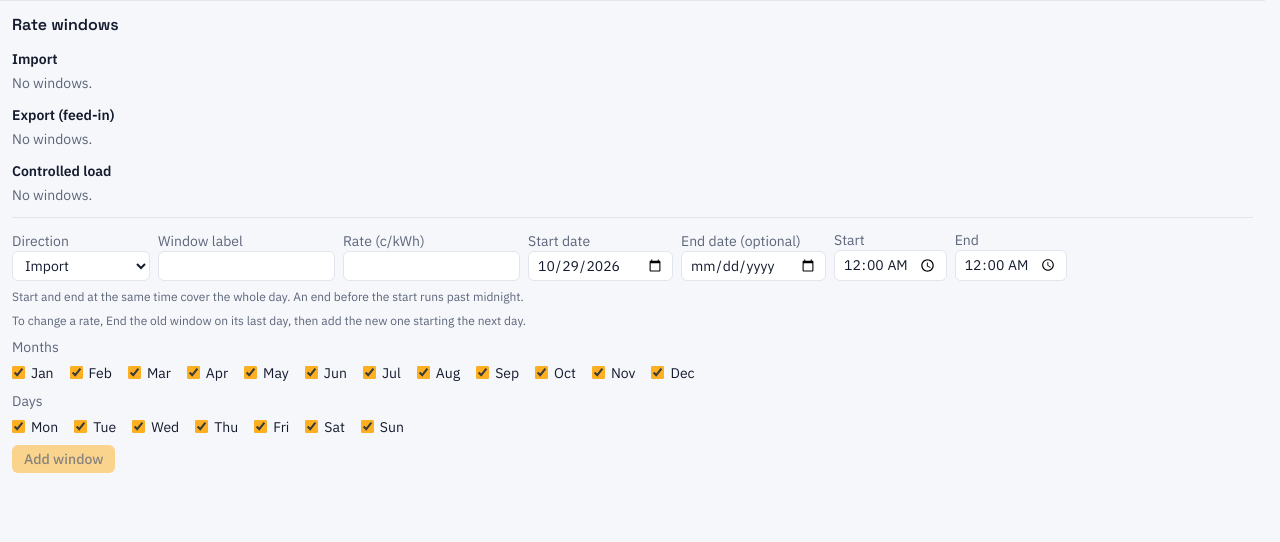
Test: RateWindowsPanel › shows the server's message when a window overlaps
Expected: the heading "Import" is shown, [12,50,57,68]
In the field labelled "Window label": (246, 266) [158,251,335,281], type "Peak"
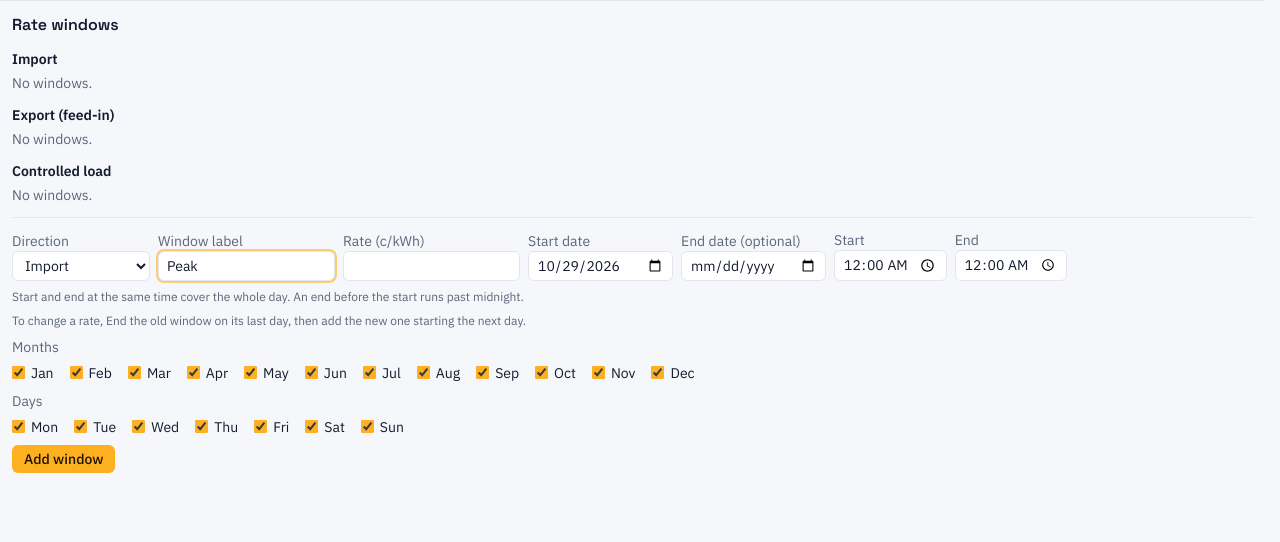
In the number field labelled "Rate (c/kWh)": (432, 266) [343,251,520,281], type "40"
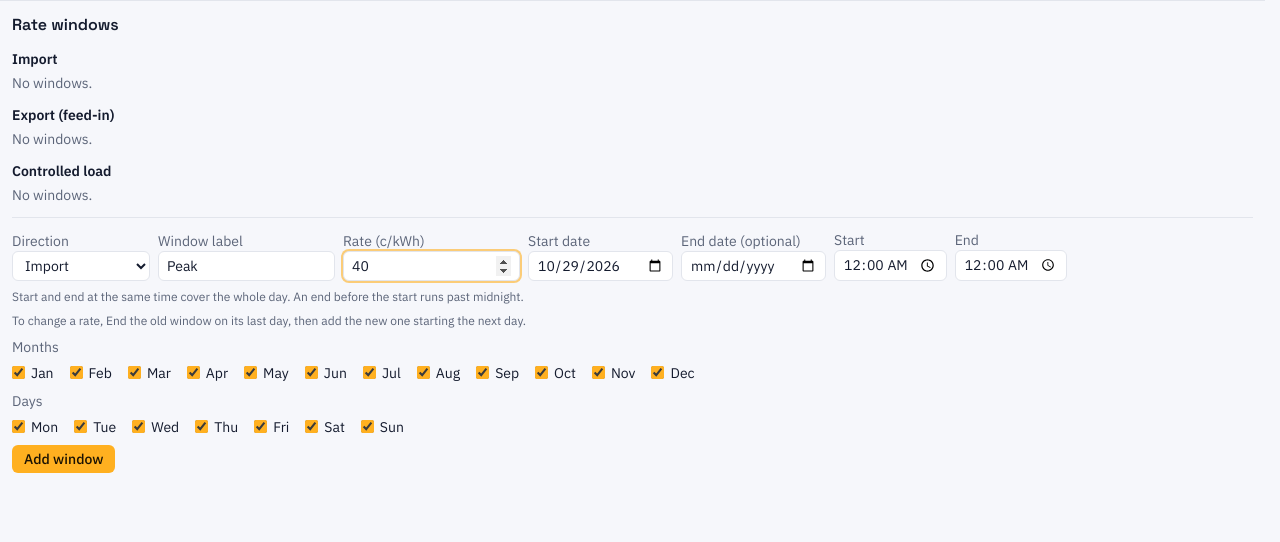
Click the button "Add window": (64, 459) [12,445,115,473]
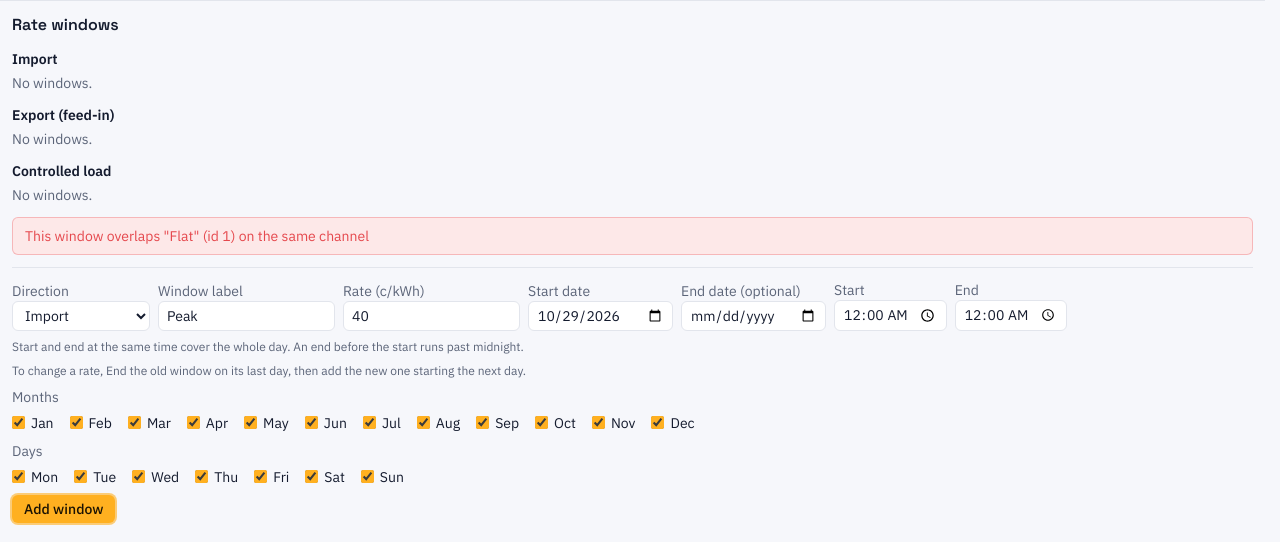
Result: the message shows "overlaps \"Flat\"" at [25,227,369,245]
